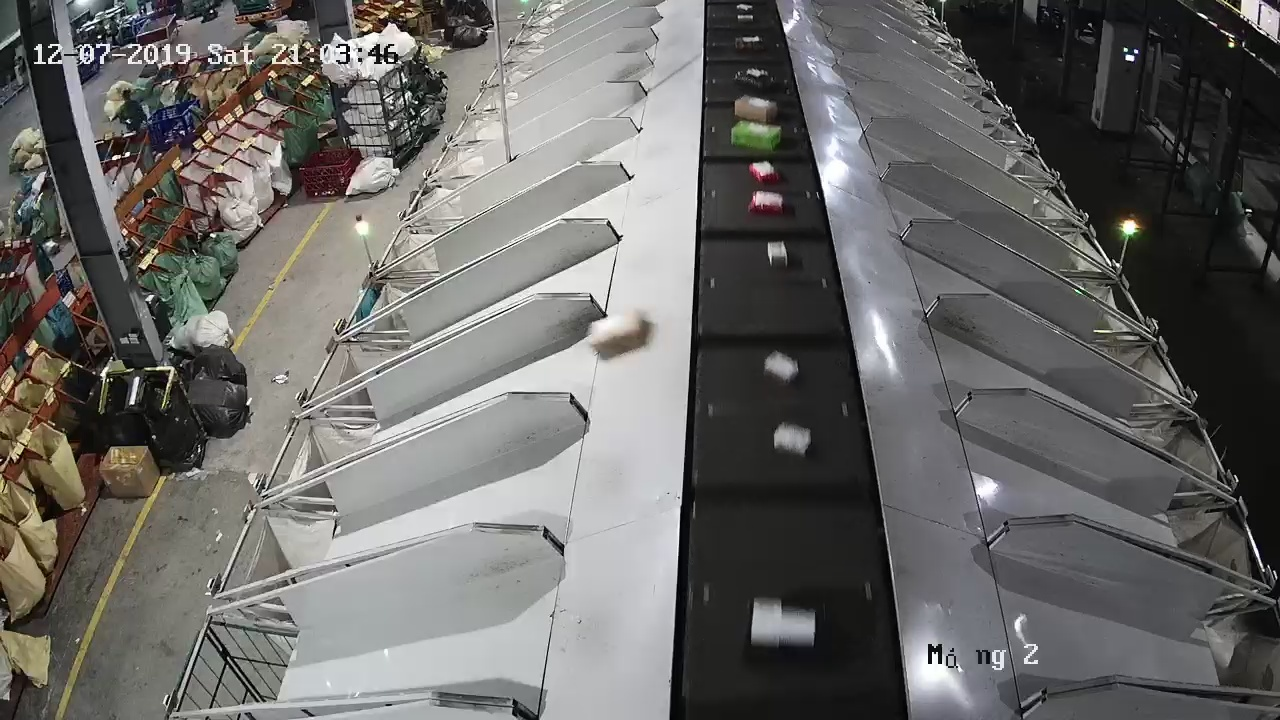parcel: (586, 308, 646, 357)
